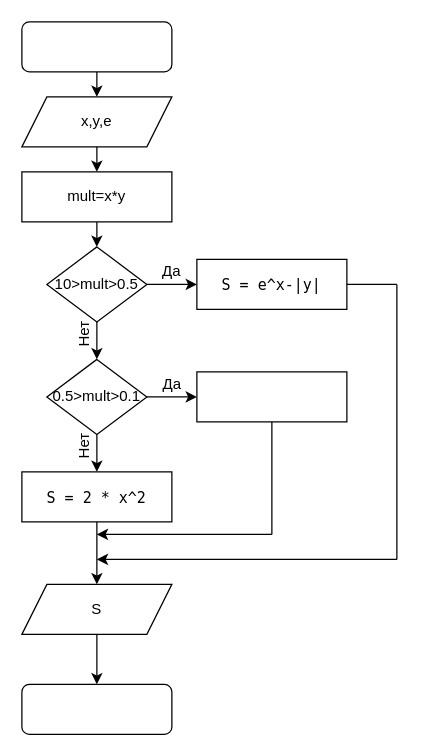
This 429x756 diagram has some shape labels left out. The shapes that lost their labels are listed below. From the top down, each one's centre as x and y in pixels, then its label:
At pixel 96 46: "Начало".
At pixel 271 396: "S = |x + y|^1./3".
At pixel 96 708: "Конец".
